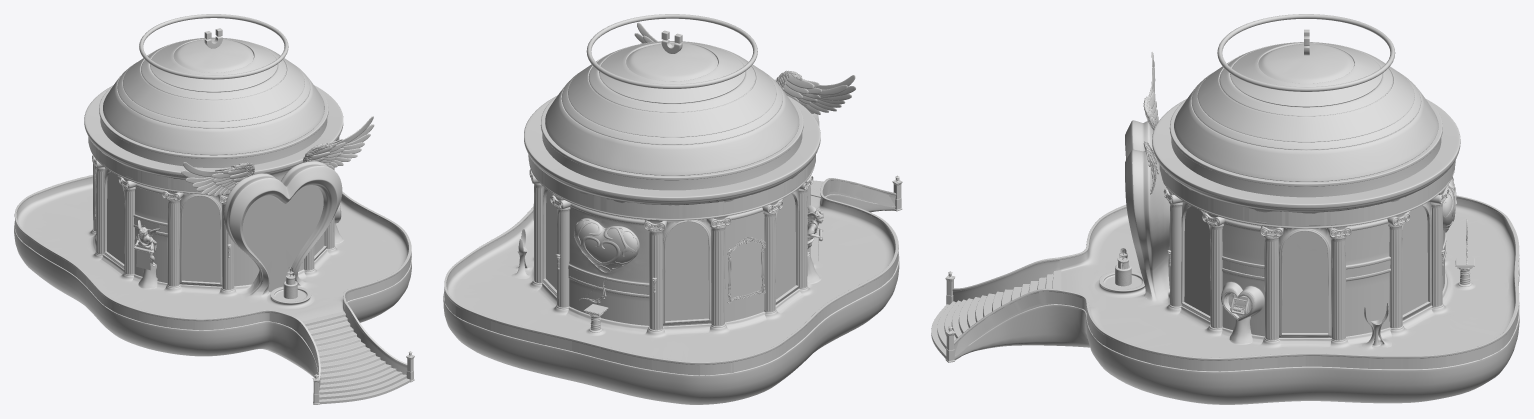
File: Castle_NoTex_TextureDecor_Compressed2.glb
The picture shows the model from 3 angles, left to right: view 1: azimuth 30°, elevation 25°; view 2: azimuth 150°, elevation 25°; view 3: azimuth 270°, elevation 25°; orthographic projection. The views are drawn at different scales.
Parts seen in each view (by area): view 1: castle, floor, hoofGlass, decor, stairs, HeartVid, gods, new_columns, floorHeart, wings, castleWalls, Hallos (+2 smaller); view 2: castle, floor, hoofGlass, decor, castleWalls, new_columns, gods, wings, Hallos, castleGodsWalls, castleHeart, Mirror (+3 smaller); view 3: castle, floor, hoofGlass, decor, gods, castleWalls, new_columns, stairs, castleGodsWalls, Hallos, floorHeart, castlePilars (+1 smaller).
Boxes of the visible parts, x1,y1,x2,y2 form: castle: [14, 38, 414, 404]; floor: [14, 161, 411, 390]; hoofGlass: [103, 37, 324, 155]; decor: [15, 137, 411, 373]; stairs: [302, 311, 410, 404]; HeartVid: [242, 185, 323, 291]; gods: [107, 172, 324, 282]; new_columns: [93, 162, 334, 289]; floorHeart: [229, 166, 342, 296]; wings: [181, 116, 374, 196]; castleWalls: [133, 183, 341, 286]; Hallos: [139, 14, 288, 227]; castle: [443, 41, 902, 404]; floor: [444, 79, 898, 365]; hoofGlass: [545, 41, 799, 175]; decor: [444, 154, 898, 375]; castleWalls: [568, 203, 764, 325]; new_columns: [533, 183, 810, 330]; gods: [546, 190, 795, 320]; wings: [634, 22, 855, 114]; Hallos: [586, 14, 822, 211]; castleGodsWalls: [543, 187, 799, 326]; castleHeart: [574, 218, 637, 271]; Mirror: [730, 241, 762, 298]; castle: [945, 42, 1519, 404]; floor: [952, 120, 1519, 370]; hoofGlass: [1174, 42, 1438, 181]; decor: [954, 160, 1518, 371]; gods: [1184, 206, 1427, 332]; castleWalls: [1168, 219, 1446, 336]; new_columns: [1168, 201, 1443, 340]; stairs: [931, 270, 1061, 358]; castleGodsWalls: [1181, 202, 1431, 337]; Hallos: [1217, 14, 1395, 91]; floorHeart: [1125, 121, 1152, 300]; castlePilars: [1163, 189, 1448, 237].
Bounding box in the file's own units: 5.3 × 4.35 × 7.74.
Materials: 1 (1 with a texture image).
